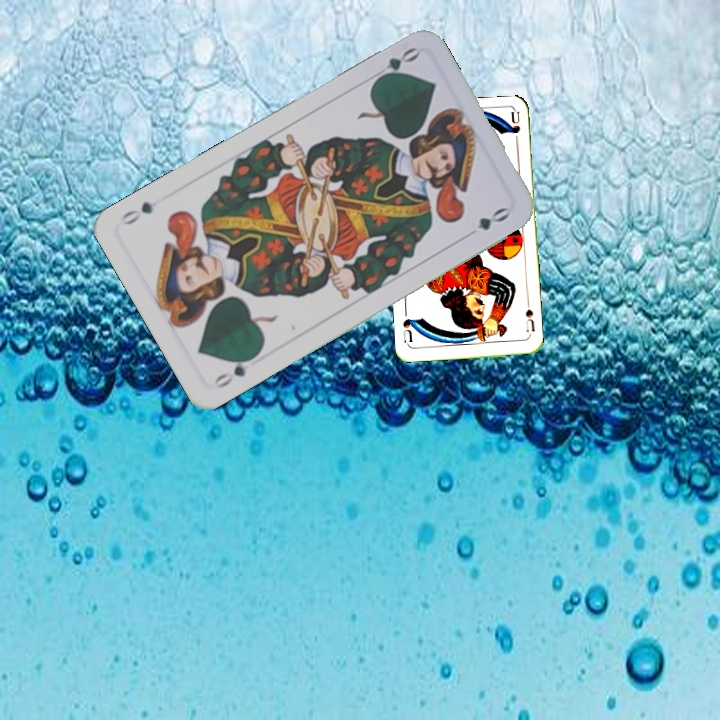GO: (370, 43, 422, 86), (209, 350, 260, 391)
SU: (521, 305, 537, 335)
